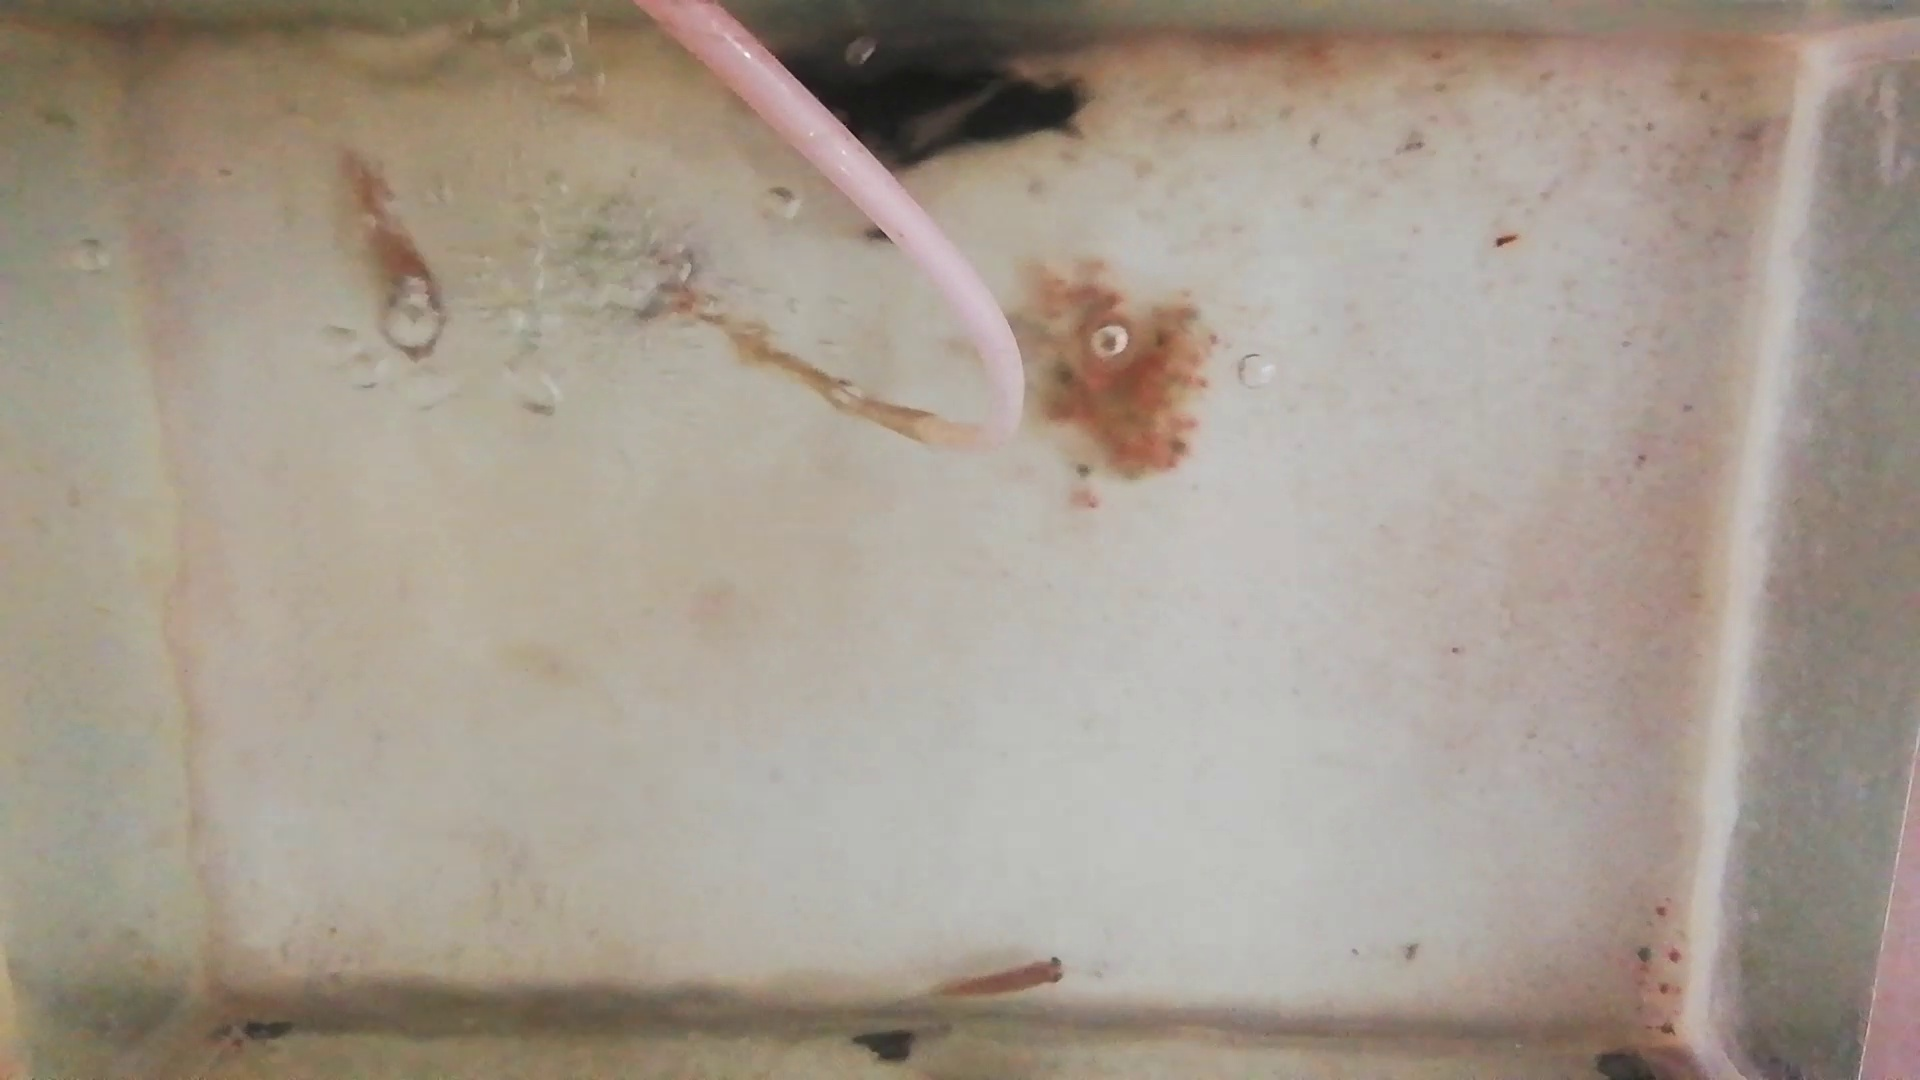fish: (338, 138, 446, 365), (931, 957, 1069, 1000)
